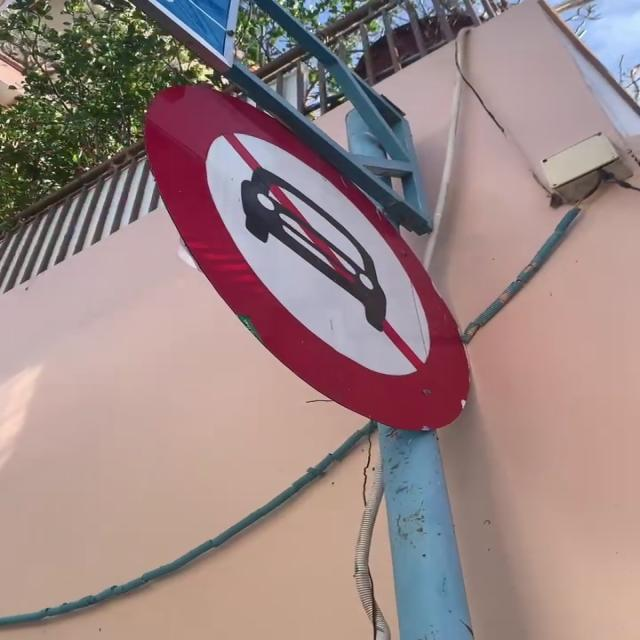Cam_O_To: (141, 80, 473, 432)
